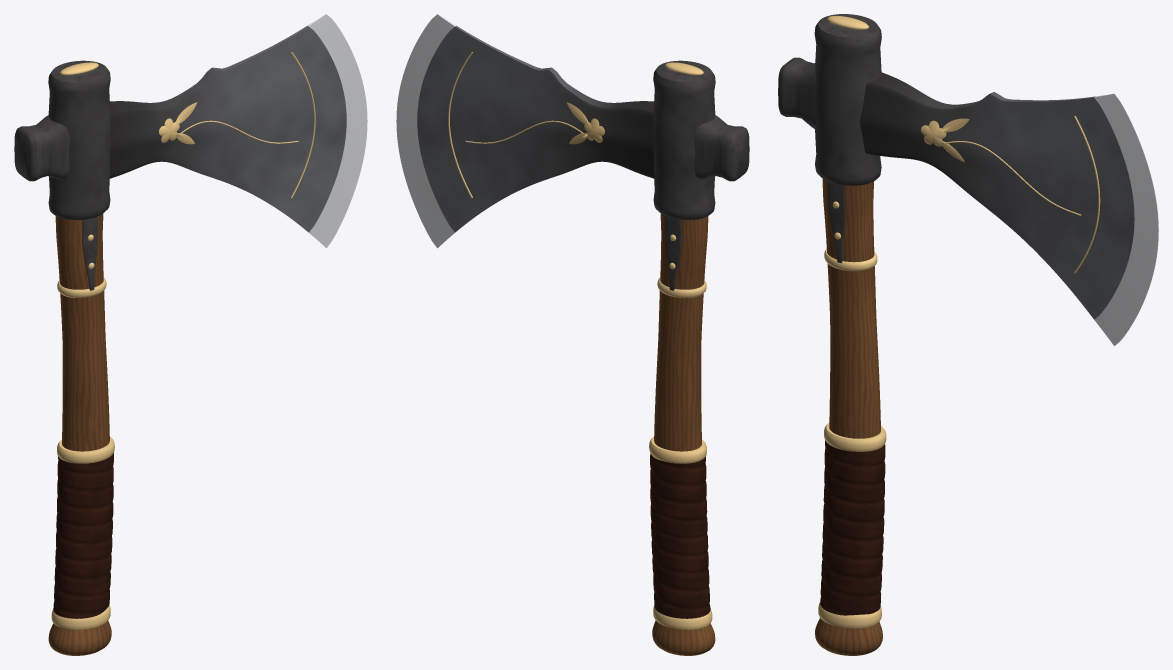
Rendered from axe.glb.
3 views of the same model, side by side, from view 1: azimuth 30°, elevation 25°; view 2: azimuth 150°, elevation 25°; view 3: azimuth 330°, elevation 25° (orthographic). The views are drawn at different scales.
Parts seen in each view (by area): view 1: Head_Blade, Haft_Applewood, Grip_LeatherWrap, Head_Socket, Head_CuttingEdge, Head_Poll, Langet_NegY, Ferrule_Brass_GripTop, Ferrule_Brass_Pommel; view 2: Head_Blade, Haft_Applewood, Grip_LeatherWrap, Head_Socket, Head_CuttingEdge, Head_Poll, Langet_PosY, Ferrule_Brass_GripTop, Ferrule_Brass_Pommel; view 3: Head_Blade, Haft_Applewood, Grip_LeatherWrap, Head_Socket, Head_CuttingEdge, Head_Poll, Langet_NegY, Ferrule_Brass_GripTop, Ferrule_Brass_Pommel.
Part boxes in pixels (left/top/right/bottom): Head_Blade: left=109, top=25, right=346, bottom=232; Haft_Applewood: left=48, top=213, right=111, bottom=655; Grip_LeatherWrap: left=53, top=453, right=113, bottom=618; Head_Socket: left=48, top=60, right=110, bottom=219; Head_CuttingEdge: left=307, top=14, right=367, bottom=248; Head_Poll: left=14, top=115, right=69, bottom=181; Langet_NegY: left=82, top=216, right=97, bottom=290; Ferrule_Brass_GripTop: left=57, top=436, right=114, bottom=463; Ferrule_Brass_Pommel: left=51, top=605, right=110, bottom=629; Head_Blade: left=417, top=25, right=654, bottom=232; Haft_Applewood: left=652, top=213, right=715, bottom=655; Grip_LeatherWrap: left=650, top=453, right=710, bottom=618; Head_Socket: left=653, top=60, right=715, bottom=219; Head_CuttingEdge: left=396, top=14, right=456, bottom=248; Head_Poll: left=694, top=115, right=749, bottom=181; Langet_PosY: left=666, top=216, right=681, bottom=290; Ferrule_Brass_GripTop: left=649, top=436, right=706, bottom=463; Ferrule_Brass_Pommel: left=653, top=606, right=712, bottom=629; Head_Blade: left=860, top=72, right=1134, bottom=319; Haft_Applewood: left=815, top=179, right=882, bottom=655; Grip_LeatherWrap: left=820, top=440, right=885, bottom=615; Head_Socket: left=814, top=14, right=881, bottom=185; Head_CuttingEdge: left=1094, top=93, right=1158, bottom=345; Head_Poll: left=778, top=57, right=816, bottom=128; Langet_NegY: left=828, top=181, right=845, bottom=263; Ferrule_Brass_GripTop: left=824, top=422, right=886, bottom=451; Ferrule_Brass_Pommel: left=818, top=602, right=881, bottom=628.
Size of the model in its own units: 0.539 by 0.878 by 0.0774.
6 materials, 4 textured.
